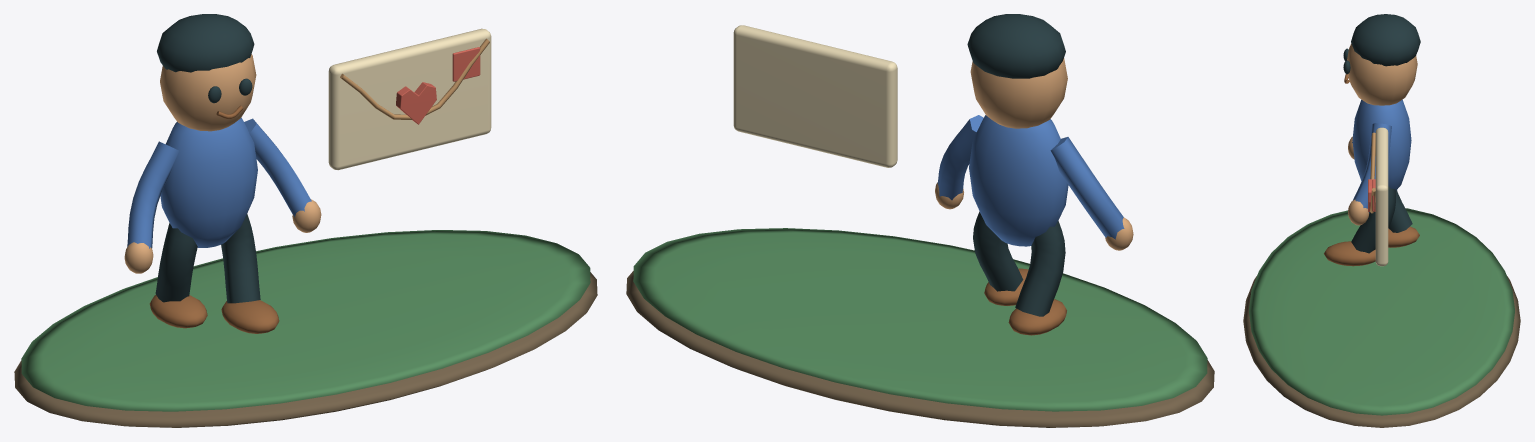
Rendered from self-trust.glb.
3 views of the same model, side by side, from view 1: azimuth 30°, elevation 25°; view 2: azimuth 150°, elevation 25°; view 3: azimuth 270°, elevation 25° (orthographic). The views are drawn at different scales.
Visible parts, largest first — view 1: self-trust_surface_01, self-trust_surface_06, self-trust_surface_05, self-trust_surface_00, self-trust_surface_03, self-trust_surface_02, self-trust_surface_04, self-trust_surface_08, self-trust_surface_07; view 2: self-trust_surface_01, self-trust_surface_06, self-trust_surface_05, self-trust_surface_00, self-trust_surface_03, self-trust_surface_02, self-trust_surface_04; view 3: self-trust_surface_01, self-trust_surface_00, self-trust_surface_03, self-trust_surface_05, self-trust_surface_02, self-trust_surface_06, self-trust_surface_04, self-trust_surface_07.
Part boxes in pixels (x1,y1,x2,y2): self-trust_surface_01: [21, 230, 590, 411]; self-trust_surface_06: [328, 28, 491, 170]; self-trust_surface_05: [127, 117, 311, 248]; self-trust_surface_00: [14, 272, 597, 427]; self-trust_surface_03: [155, 14, 260, 303]; self-trust_surface_02: [124, 54, 321, 273]; self-trust_surface_04: [149, 105, 279, 333]; self-trust_surface_08: [396, 47, 480, 124]; self-trust_surface_07: [340, 38, 489, 119]; self-trust_surface_01: [633, 228, 1207, 411]; self-trust_surface_06: [733, 25, 897, 167]; self-trust_surface_05: [937, 115, 1124, 246]; self-trust_surface_00: [626, 271, 1214, 427]; self-trust_surface_03: [967, 14, 1065, 316]; self-trust_surface_02: [935, 58, 1133, 250]; self-trust_surface_04: [984, 268, 1066, 335]; self-trust_surface_01: [1249, 208, 1514, 415]; self-trust_surface_00: [1243, 276, 1520, 427]; self-trust_surface_03: [1343, 14, 1420, 253]; self-trust_surface_05: [1352, 99, 1411, 212]; self-trust_surface_02: [1347, 43, 1417, 225]; self-trust_surface_06: [1375, 127, 1388, 266]; self-trust_surface_04: [1324, 74, 1419, 266]; self-trust_surface_07: [1370, 132, 1375, 213].
Size of the model in its own units: 4.56 by 2.76 by 2.5.
